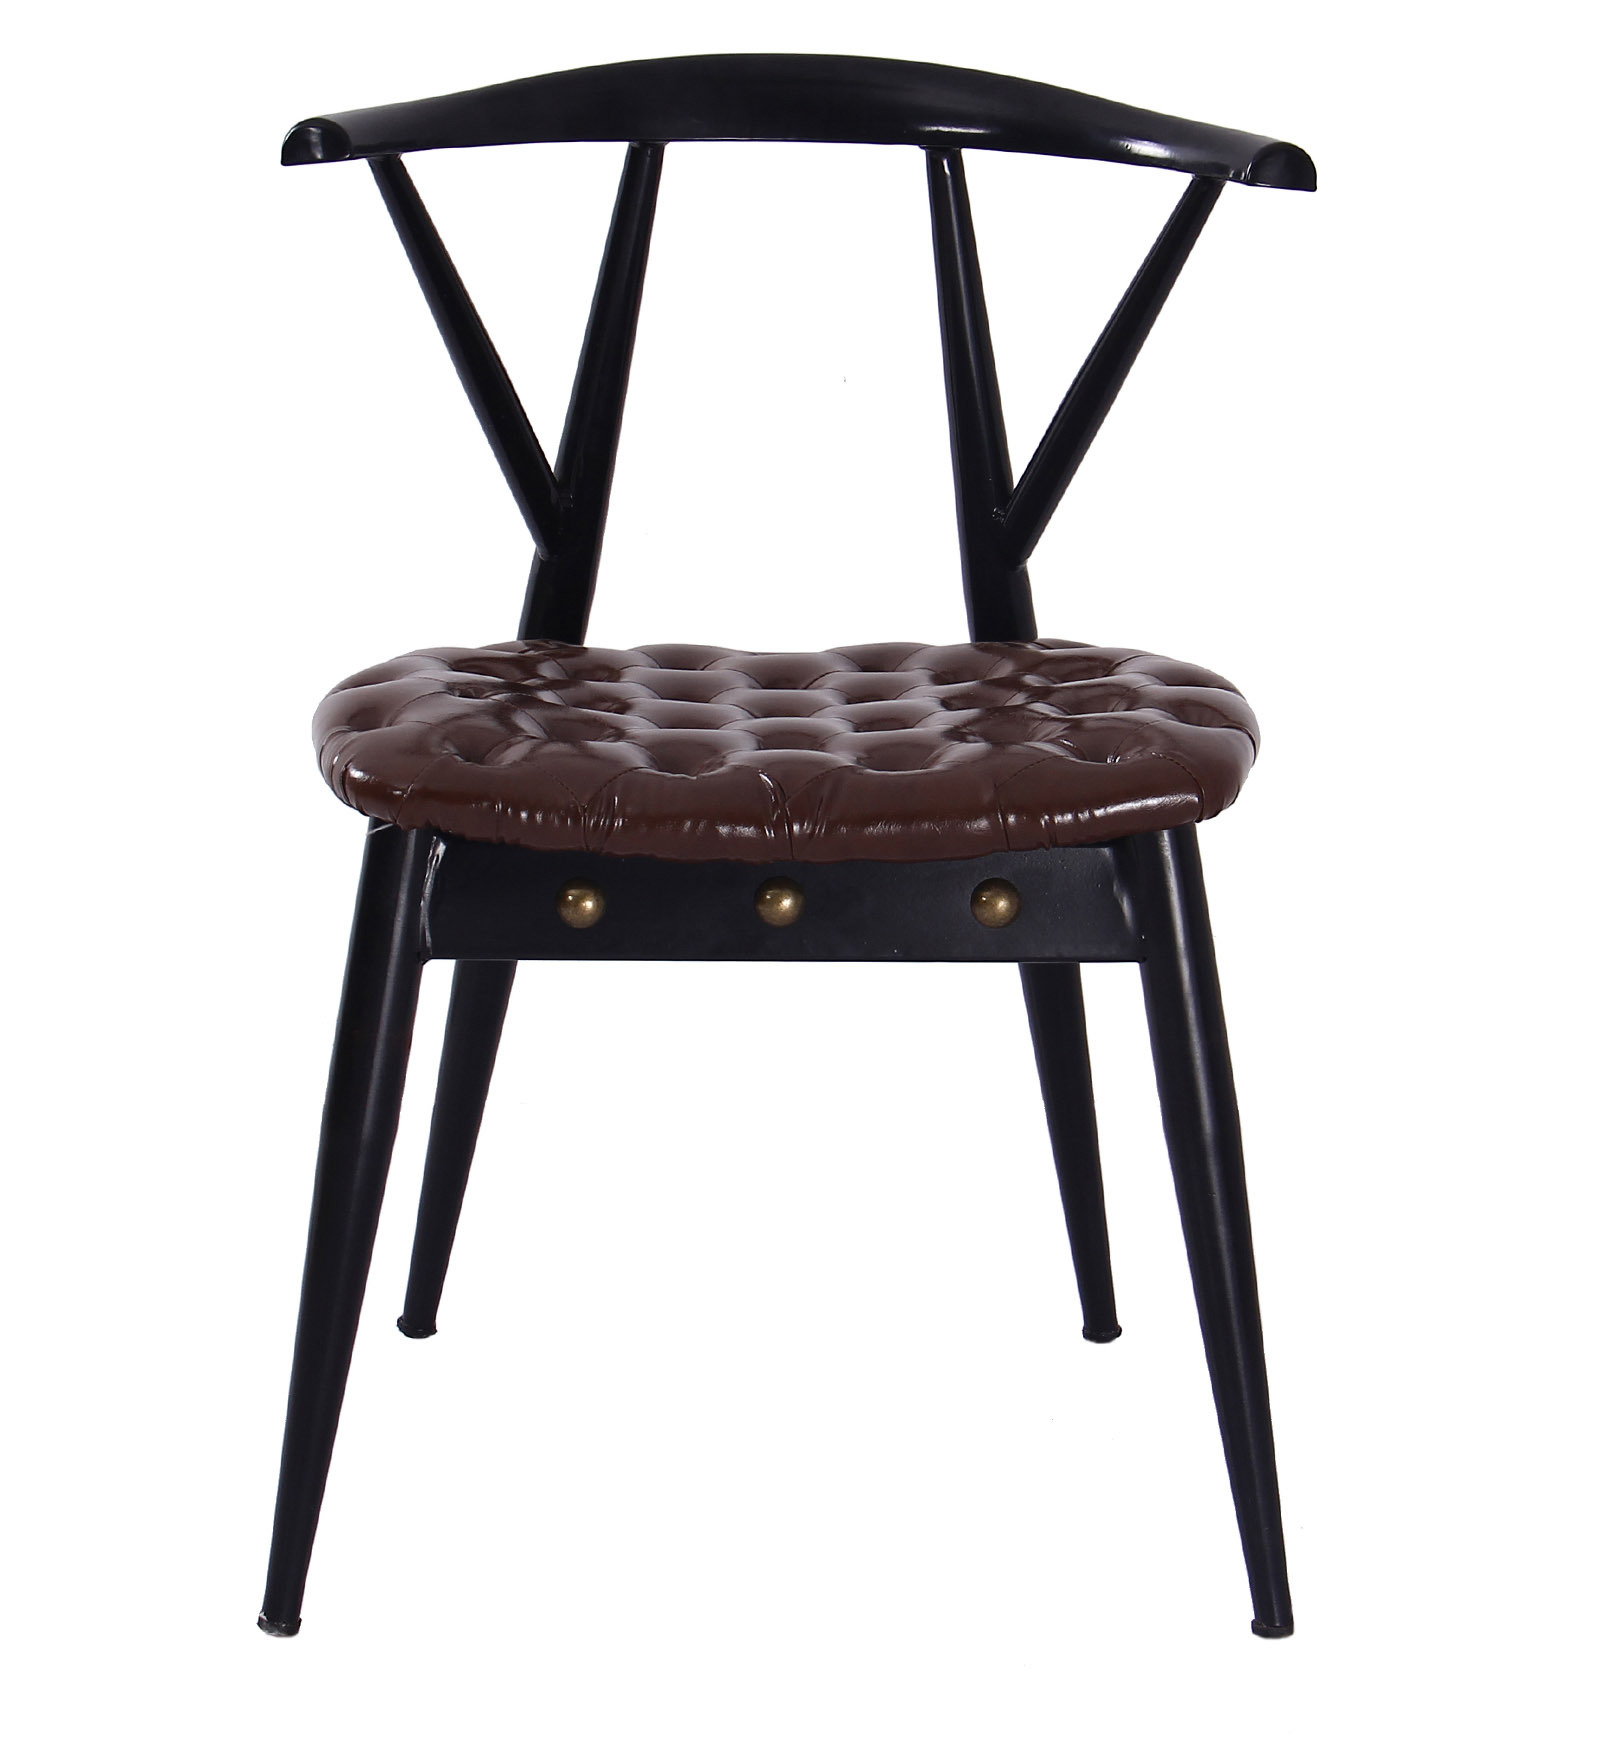Negus Metal Chair (Set of 2) in Black Colour by Bohemiana: (238, 48, 1326, 1653)
